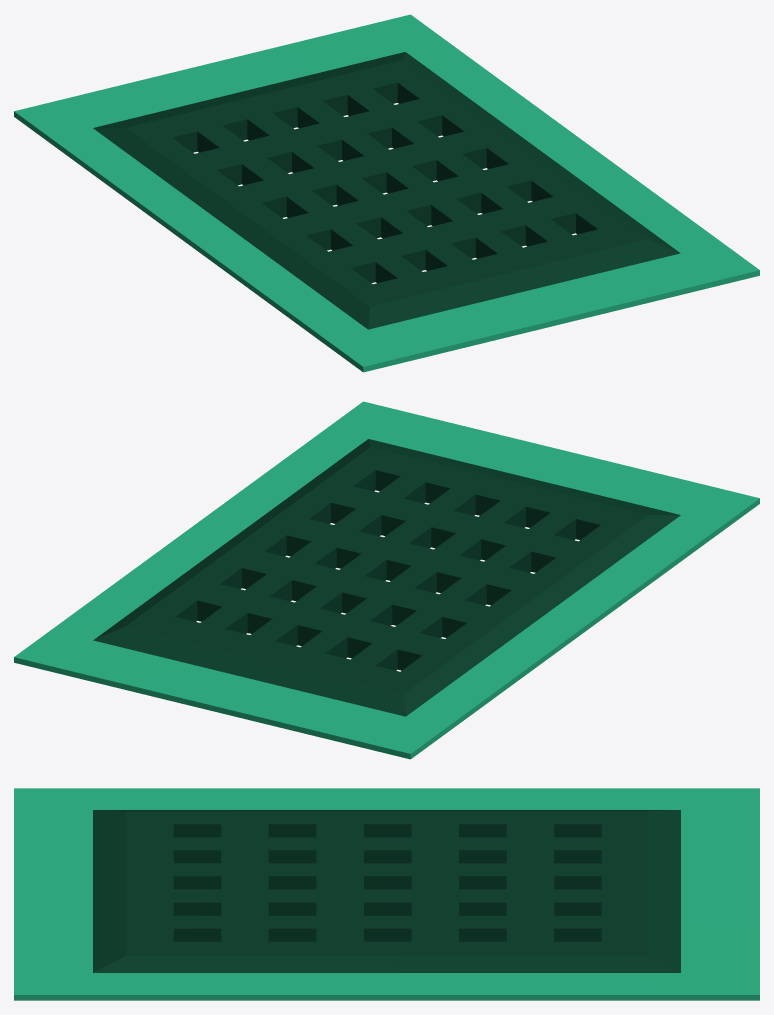
The model's file is loophole.fbx.
The picture shows the model from 3 angles, top to bottom: view 1: azimuth 30°, elevation 25°; view 2: azimuth 150°, elevation 25°; view 3: azimuth 270°, elevation 25°; orthographic projection. The views are drawn at different scales.
Parts seen in each view (by area): view 1: loophole; view 2: loophole; view 3: loophole.
Boxes of the visible parts, bbox=[...] form: loophole: bbox=[14, 14, 759, 372]; loophole: bbox=[14, 401, 759, 759]; loophole: bbox=[14, 788, 759, 1000].
Size of the model in its own units: 182 by 8.87 by 278.
